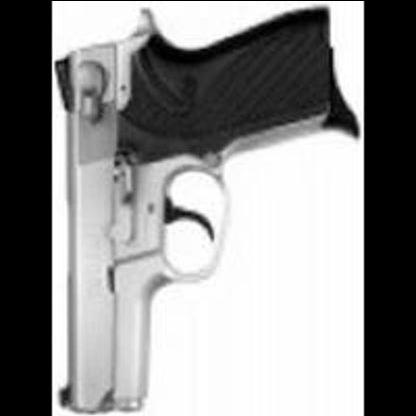weapon: (53, 4, 361, 414)
